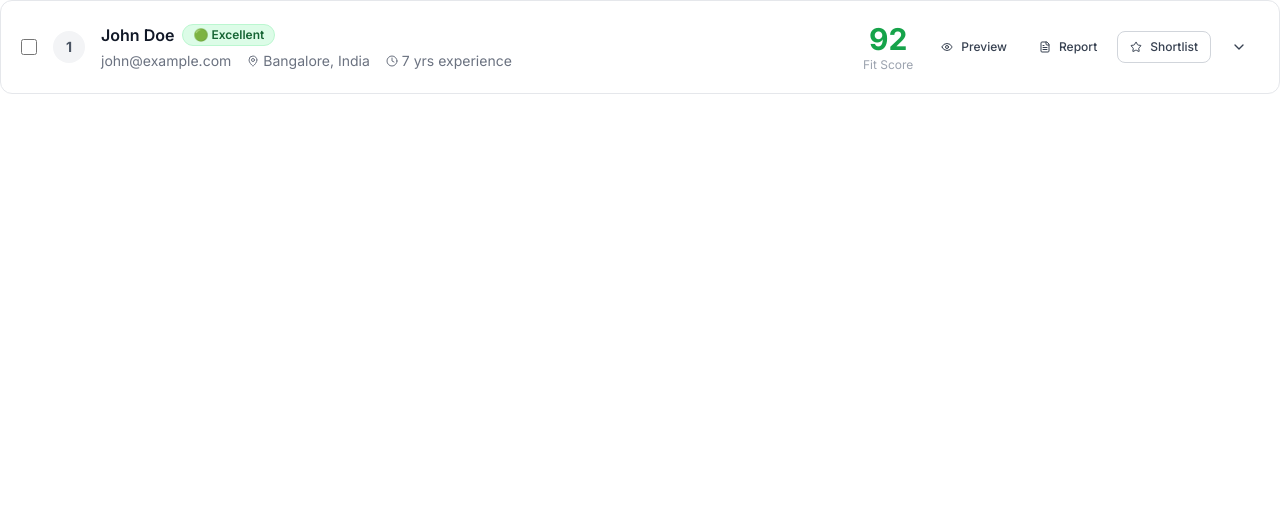
CandidateCard › expands details when expand button clicked
The width and height of the screenshot is (1280, 518).
// Click the last button (expand)
Click the 4th button.
click(1239, 47)  # box [1219, 31, 1259, 63]
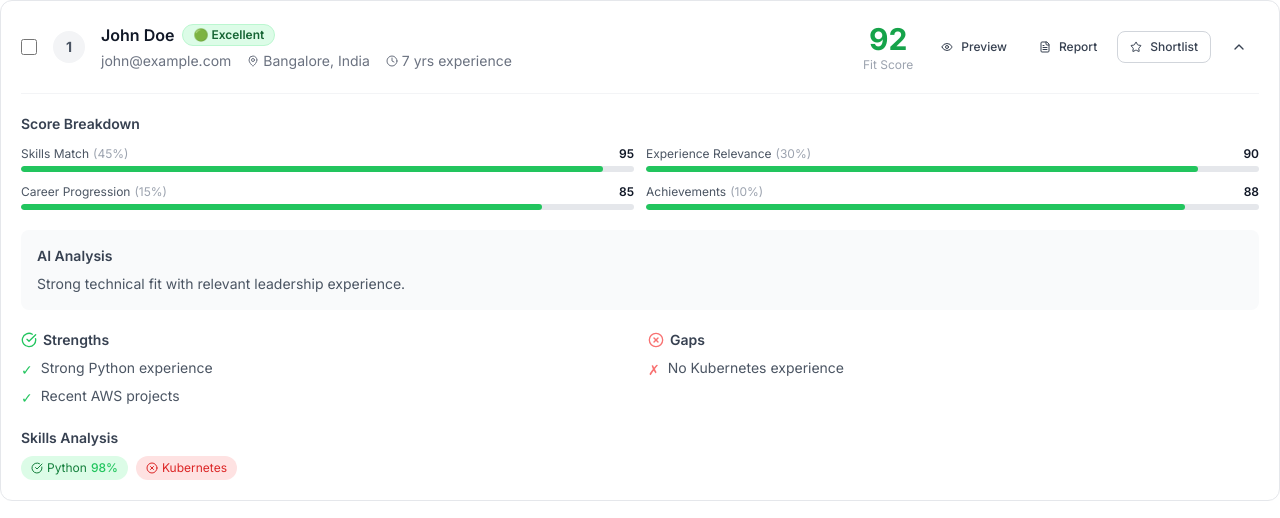
Expected: the heading "Score Breakdown" is shown, [21, 115, 140, 132]
